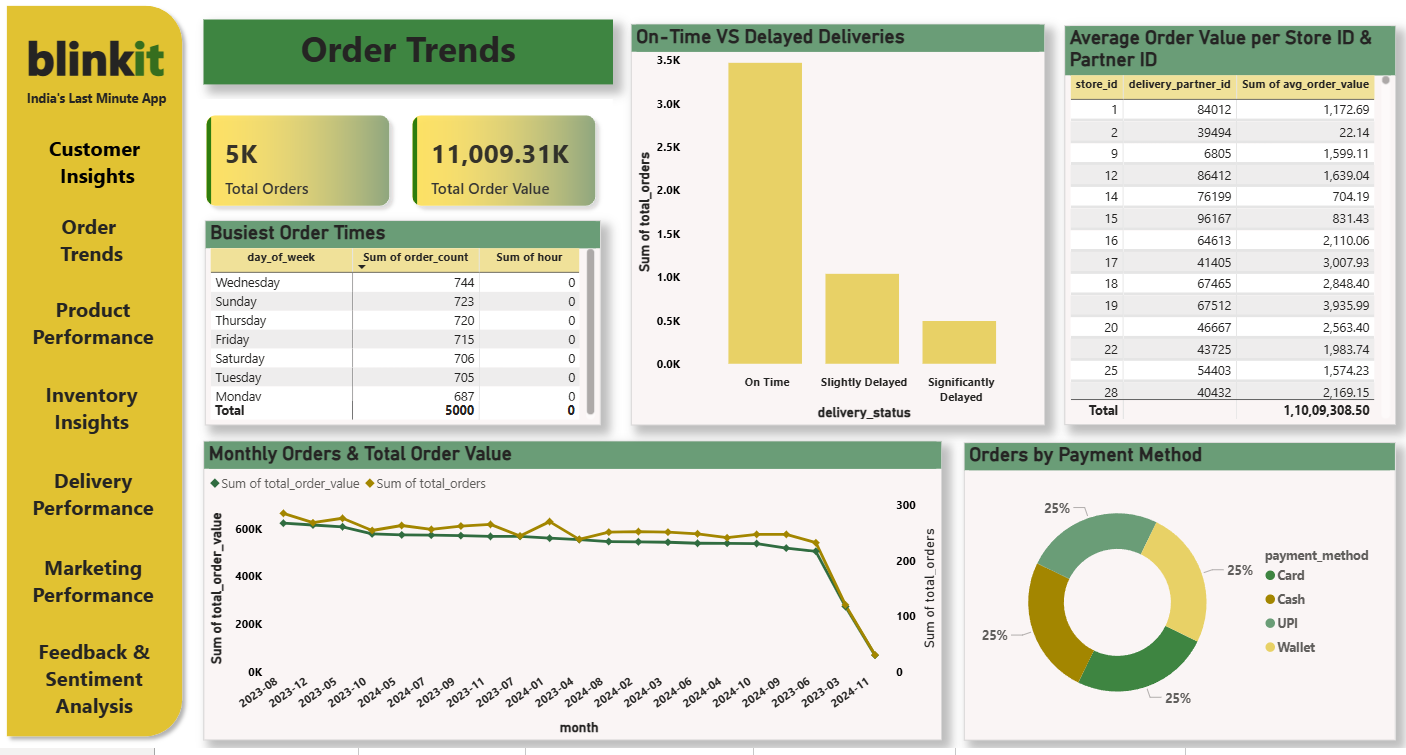

The page's visual inventory and layout, read from the dashboard file:
{"tool":"powerbi","page":{"name":"Order Trends","canvas":[1500,800],"ordinal":1},"visuals":[{"type":"shape","box":[0,0,204.1,791.4],"z":0},{"type":"textbox","box":[16,24.8,173.9,74.5],"z":1000},{"type":"textbox","box":[19.5,92.3,170.3,30.2],"z":2000},{"type":"textbox","box":[7.1,140.2,191.6,81.6],"z":3000},{"type":"actionButton","box":[8.9,134.9,186.3,81.6],"z":4000},{"type":"textbox","box":[3.5,221.8,191.6,71],"z":5000},{"type":"actionButton","box":[8.9,221.8,186.3,71],"z":6000},{"type":"textbox","box":[5.3,308.8,191.6,71],"z":7000},{"type":"actionButton","box":[10.6,308.8,188.1,71],"z":8000},{"type":"textbox","box":[3.5,399.3,191.6,71],"z":9000},{"type":"actionButton","box":[5.3,404.6,189.9,65.7],"z":10000},{"type":"textbox","box":[5.3,489.8,191.6,71],"z":11000},{"type":"actionButton","box":[7.1,489.8,186.3,71],"z":12000},{"type":"textbox","box":[5.3,582,191.6,71],"z":13000},{"type":"actionButton","box":[7.1,582,186.3,71],"z":14000},{"type":"textbox","box":[5.6,672.2,190.7,100],"z":15000},{"type":"actionButton","box":[9.3,672.2,188.9,100],"z":16000},{"type":"textbox","box":[216.7,24.1,433.3,68.5],"z":17000},{"type":"cardVisual","fields":{"Data":["blinkit orders.Total Orders","blinkit orders.Total Order Value"]},"box":[203.8,107.5,447.2,130.2],"z":18000},{"type":"lineChart","title":"Monthly Orders & Total Order Value","fields":{"Category":["blinkit monthly_orders_trend.month"],"Y":["Sum(blinkit monthly_orders_trend.total_order_value)"],"Y2":["Sum(blinkit monthly_orders_trend.total_orders)"]},"box":[217,469.8,781.1,317],"z":19000},{"type":"columnChart","title":"On-Time VS Delayed Deliveries","fields":{"Category":["blinkit delivery_status_distribution.delivery_status"],"Y":["Sum(blinkit delivery_status_distribution.total_orders)"]},"box":[669.8,28.3,437.7,424.5],"z":20000},{"type":"donutChart","title":"Orders by Payment Method","fields":{"Category":["blinkit orders_by_payment_method.payment_method"],"Y":["CountNonNull(blinkit orders_by_payment_method.total_orders)"]},"box":[1022.6,471.7,456.6,315.1],"z":21000},{"type":"tableEx","title":"Average Order Value per Store ID & Partner ID","fields":{"Values":["blinkit avg_order_value_store_partner.store_id","blinkit avg_order_value_store_partner.delivery_partner_id","Sum(blinkit avg_order_value_store_partner.avg_order_value)"]},"box":[1128.3,30.2,350.9,422.6],"z":22000},{"type":"pivotTable","title":"Busiest Order Times","fields":{"Rows":["blinkit busiest_order_times.day_of_week"],"Values":["Sum(blinkit busiest_order_times.order_count)","Sum(blinkit busiest_order_times.hour)"]},"box":[218.9,235.8,418.9,217],"z":23000}]}

Visuals, with their boxes in screenshot pixels (x1, y1, x2, y2), scaled from the page's 1500x800 canvas onto the 1406x755 screenshot:
shape: (x1=0, y1=0, x2=191, y2=747)
textbox: (x1=15, y1=23, x2=178, y2=94)
textbox: (x1=18, y1=87, x2=178, y2=116)
textbox: (x1=7, y1=132, x2=186, y2=209)
actionButton: (x1=8, y1=127, x2=183, y2=204)
textbox: (x1=3, y1=209, x2=183, y2=276)
actionButton: (x1=8, y1=209, x2=183, y2=276)
textbox: (x1=5, y1=291, x2=185, y2=358)
actionButton: (x1=10, y1=291, x2=186, y2=358)
textbox: (x1=3, y1=377, x2=183, y2=444)
actionButton: (x1=5, y1=382, x2=183, y2=444)
textbox: (x1=5, y1=462, x2=185, y2=529)
actionButton: (x1=7, y1=462, x2=181, y2=529)
textbox: (x1=5, y1=549, x2=185, y2=616)
actionButton: (x1=7, y1=549, x2=181, y2=616)
textbox: (x1=5, y1=634, x2=184, y2=729)
actionButton: (x1=9, y1=634, x2=186, y2=729)
textbox: (x1=203, y1=23, x2=609, y2=87)
cardVisual - blinkit orders.Total Orders x blinkit orders.Total Order Value: (x1=191, y1=101, x2=610, y2=224)
"Monthly Orders & Total Order Value" lineChart: (x1=203, y1=443, x2=936, y2=743)
"On-Time VS Delayed Deliveries" columnChart: (x1=628, y1=27, x2=1038, y2=427)
"Orders by Payment Method" donutChart: (x1=959, y1=445, x2=1387, y2=743)
"Average Order Value per Store ID & Partner ID" tableEx: (x1=1058, y1=29, x2=1387, y2=427)
"Busiest Order Times" pivotTable: (x1=205, y1=223, x2=598, y2=427)
